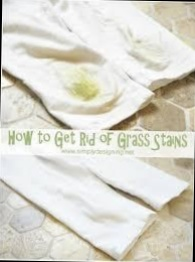earth: (68, 73, 97, 99)
